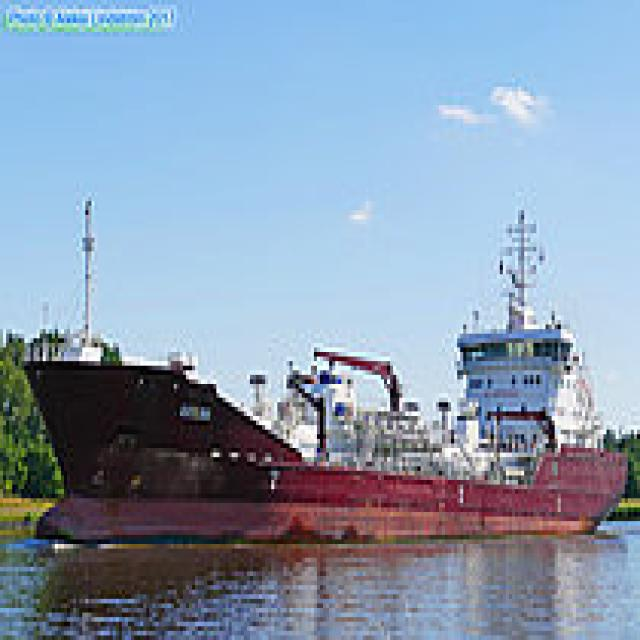Tanker: (18, 196, 625, 535)
